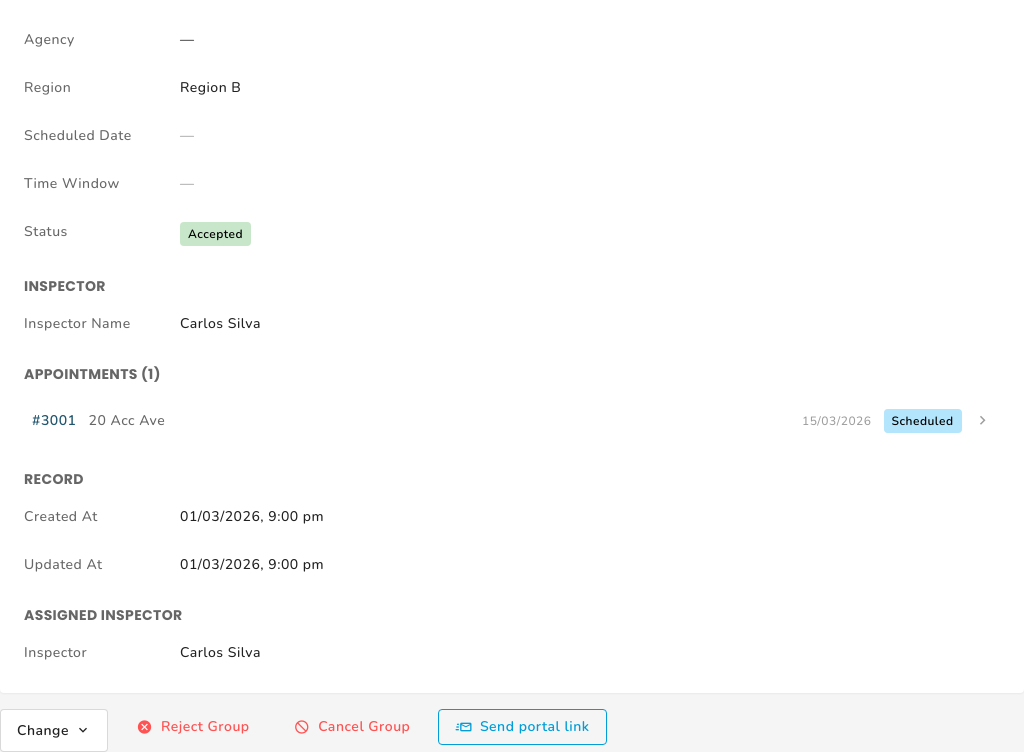
Test case: ServiceGroupDetailPage › opens cancel modal on Cancel Group click
The width and height of the screenshot is (1024, 752).
(page scrolled)
Click the button "Cancel Group" at (352, 727), box [278,709,426,745]
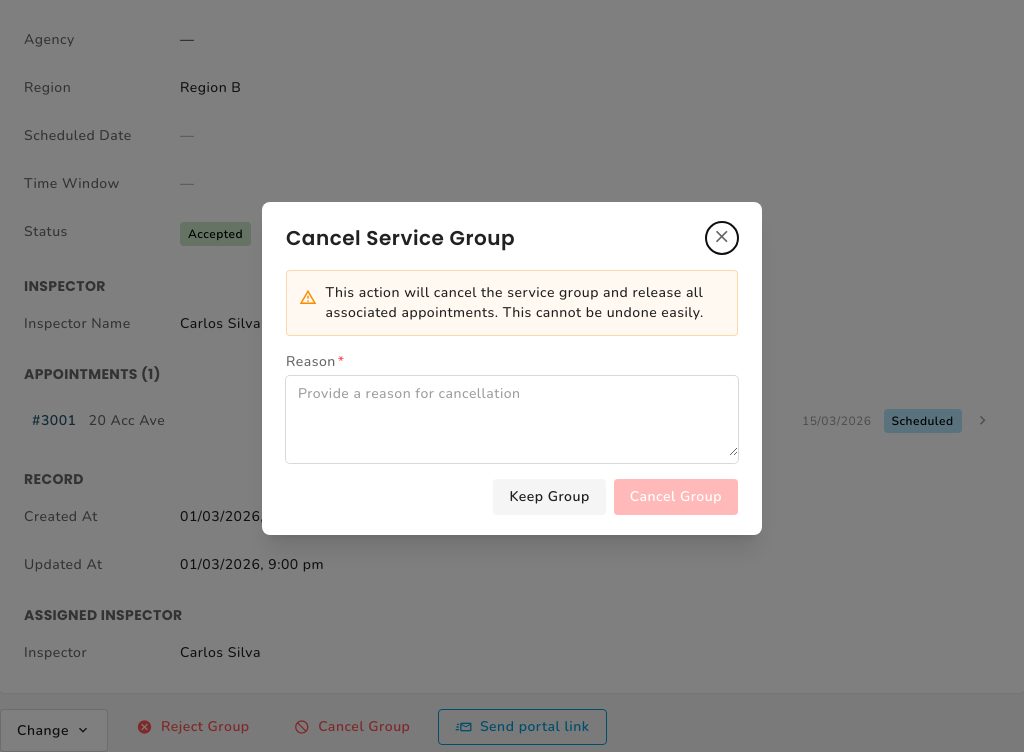
Result: the heading "Cancel Service Group" is shown at [286,224,515,252]
